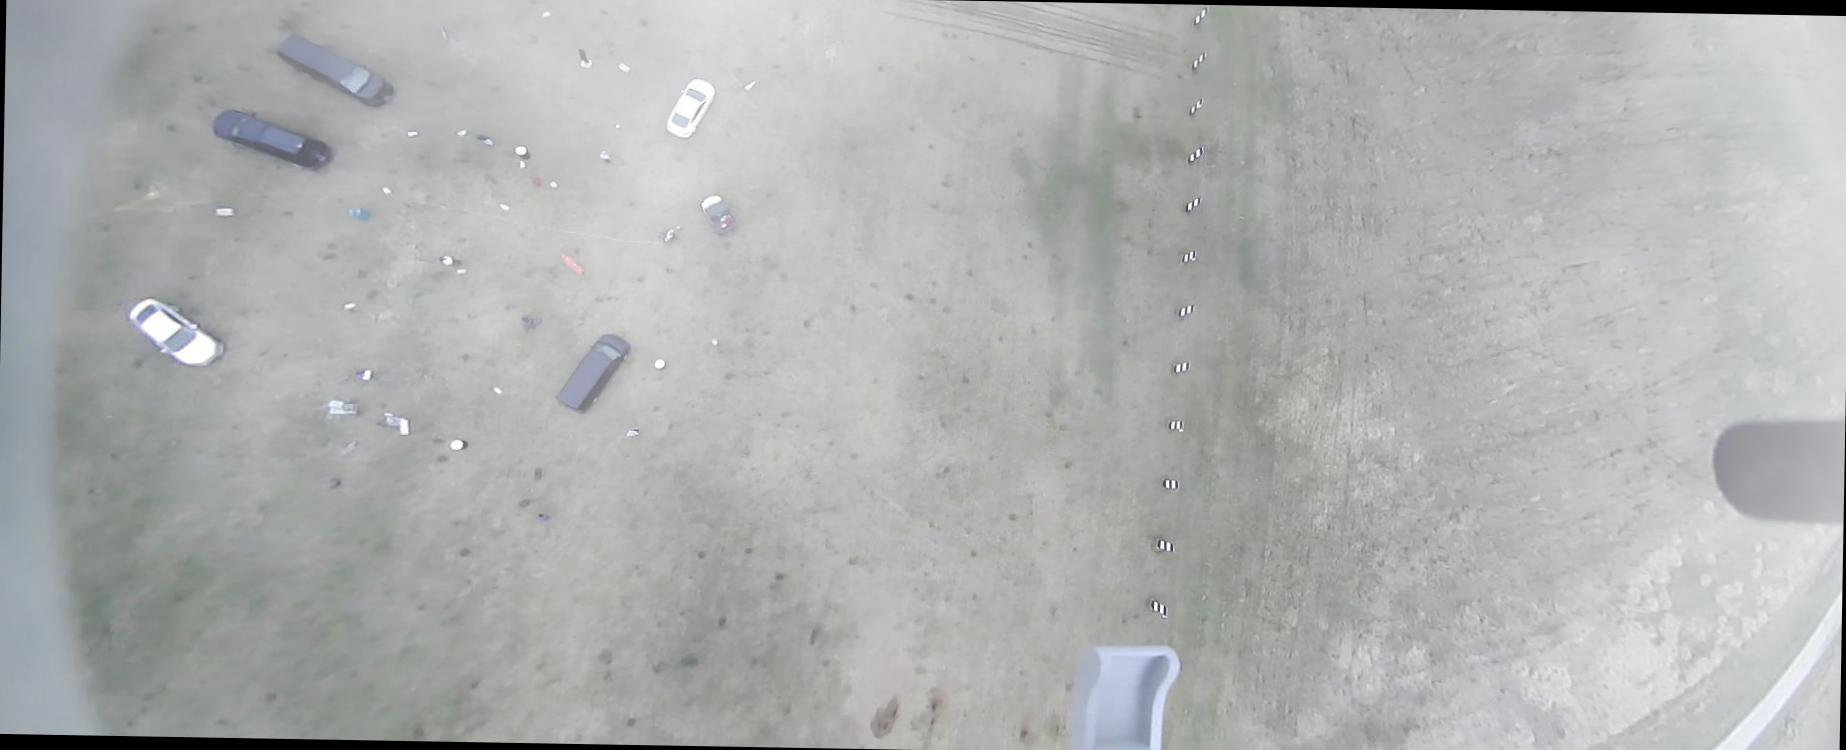vehicle: (274, 34, 393, 107), (126, 298, 225, 368), (211, 110, 328, 168), (554, 332, 631, 415), (665, 79, 716, 140), (698, 194, 739, 236)
